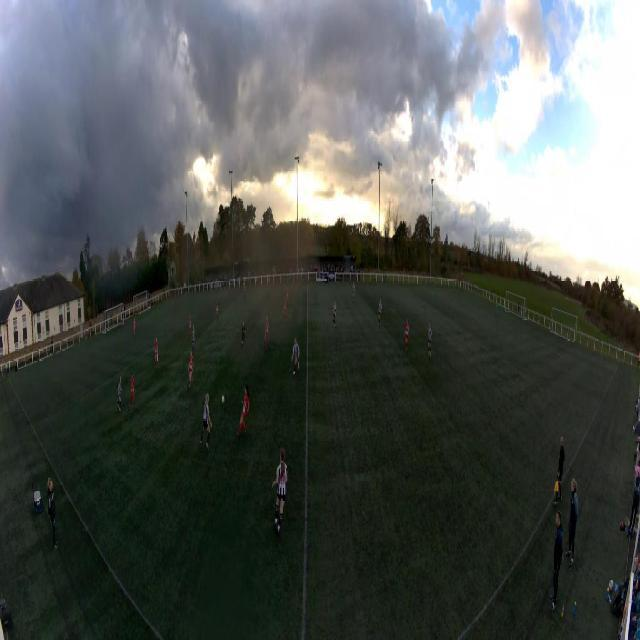ball: (222, 395, 225, 403)
player: (269, 446, 290, 537), (200, 395, 214, 445), (237, 389, 250, 438), (291, 337, 300, 374), (129, 374, 136, 410), (188, 351, 194, 389), (264, 314, 270, 348), (117, 375, 122, 415), (427, 322, 432, 358), (240, 320, 246, 350), (404, 318, 409, 353), (154, 338, 159, 370), (191, 324, 196, 355), (377, 298, 382, 326), (332, 301, 337, 327), (283, 297, 288, 322), (189, 313, 192, 341), (352, 283, 356, 303), (216, 301, 219, 320), (286, 286, 289, 305), (243, 283, 246, 300), (134, 318, 136, 337), (496, 304, 498, 319)
